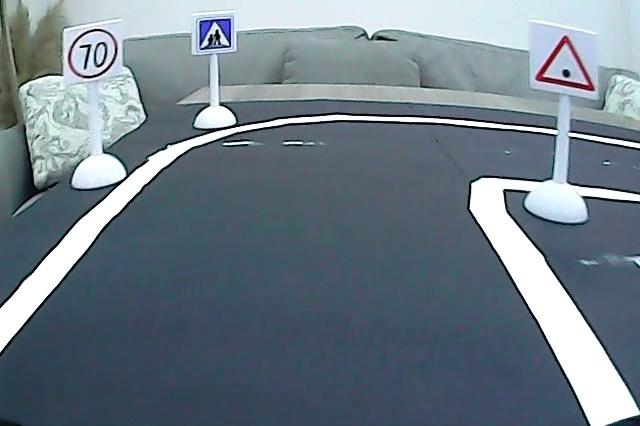green light: (533, 31, 597, 94)
school crossing: (195, 15, 235, 54)
speed limit 70: (66, 25, 120, 84)
